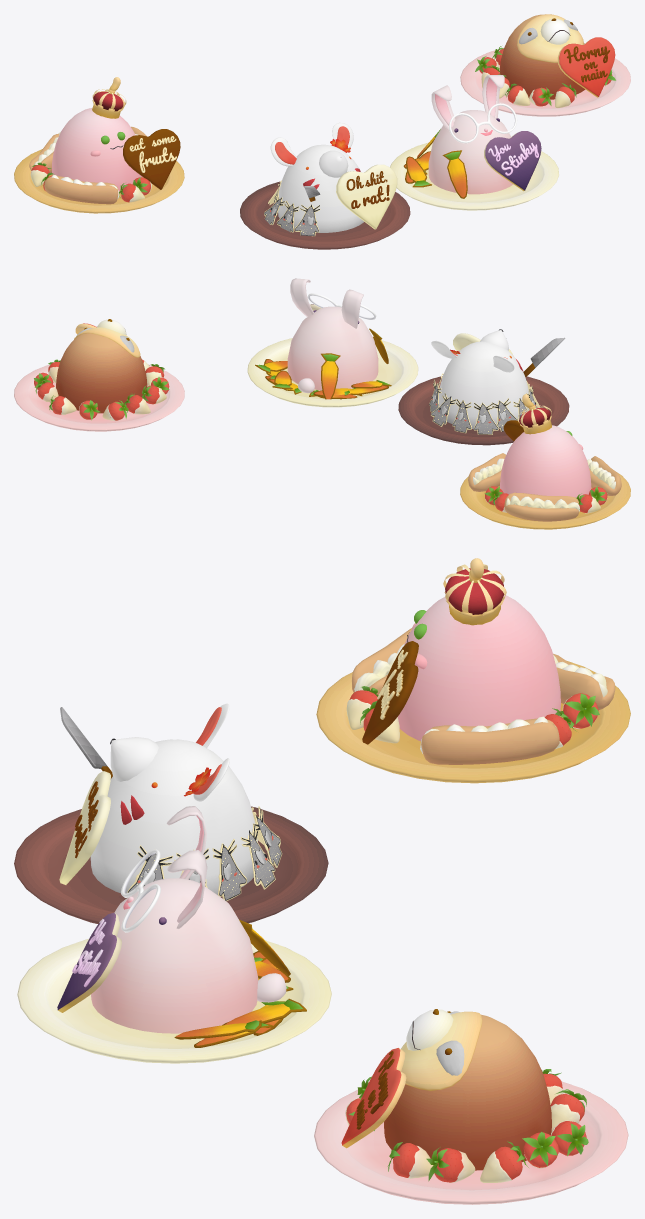
File: stylized_cakes.glb
3 views of the same model, one above another, from view 1: azimuth 30°, elevation 25°; view 2: azimuth 150°, elevation 25°; view 3: azimuth 270°, elevation 25° (orthographic). The views are drawn at different scales.
Visible parts, largest first — view 1: BeanCake, RatCake, BunCake, Sloth_Cake; view 2: BeanCake, BunCake, Sloth_Cake, RatCake; view 3: BeanCake, Sloth_Cake, BunCake, RatCake.
Boxes of the visible parts, x1=… form: BeanCake: x1=14, y1=77, x2=184, y2=213; RatCake: x1=240, y1=122, x2=410, y2=249; BunCake: x1=390, y1=75, x2=558, y2=210; Sloth_Cake: x1=460, y1=14, x2=630, y2=116; BeanCake: x1=460, y1=394, x2=630, y2=529; BunCake: x1=247, y1=278, x2=418, y2=407; Sloth_Cake: x1=14, y1=319, x2=184, y2=431; RatCake: x1=398, y1=329, x2=569, y2=445; BeanCake: x1=316, y1=558, x2=630, y2=783; Sloth_Cake: x1=314, y1=1009, x2=628, y2=1204; BunCake: x1=17, y1=806, x2=331, y2=1063; RatCake: x1=14, y1=703, x2=328, y2=923.
Size of the model in its own units: 4 by 0.7122 by 1.95.
4 materials, 4 textured.
